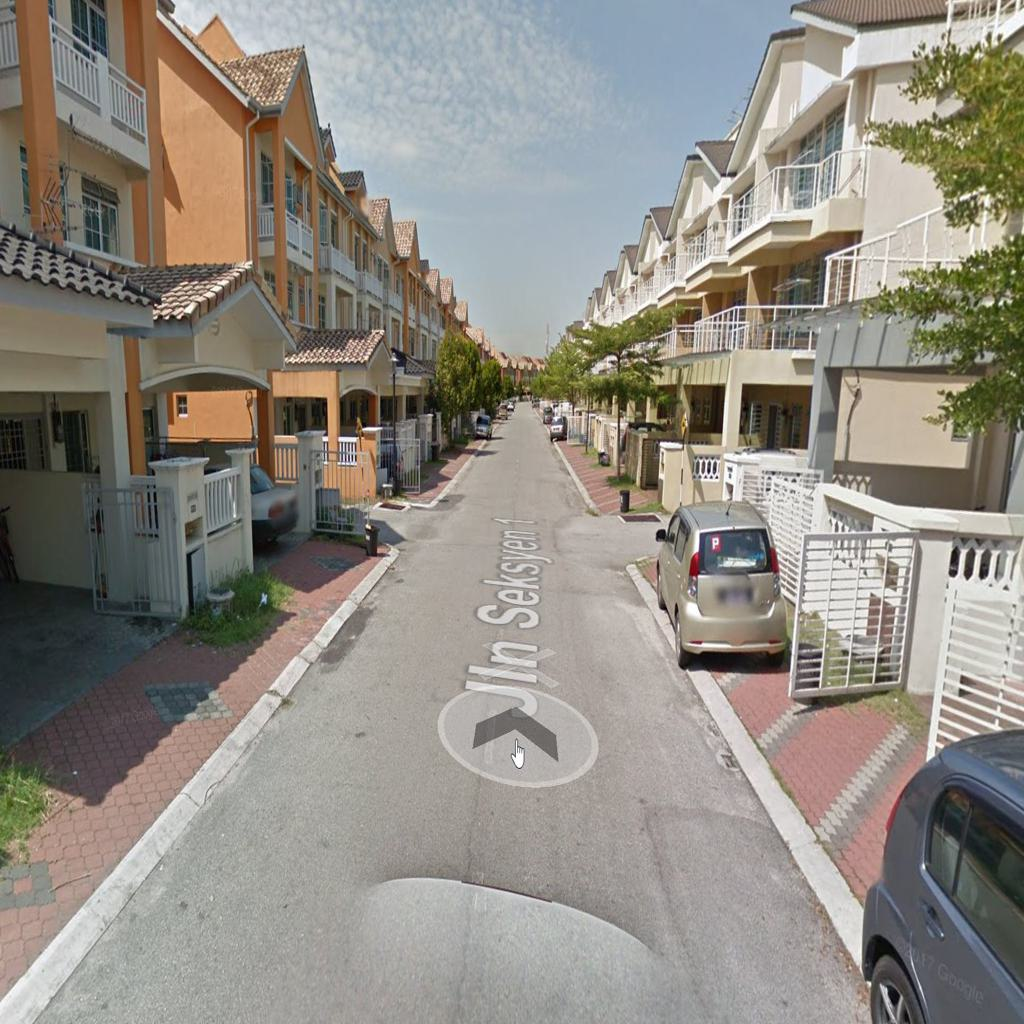Junction: (565, 485, 706, 567), (329, 476, 445, 558)
